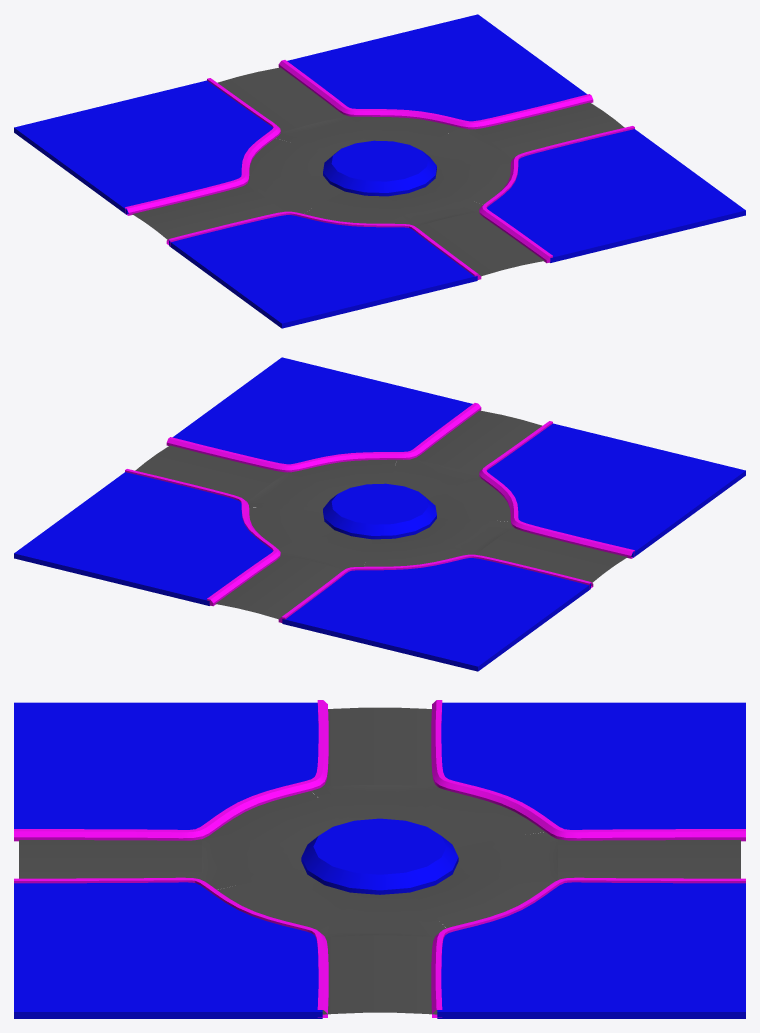
The model's file is SM_rondPoint.fbx.
The picture shows the model from 3 angles, top to bottom: view 1: azimuth 30°, elevation 25°; view 2: azimuth 150°, elevation 25°; view 3: azimuth 270°, elevation 25°; orthographic projection. The views are drawn at different scales.
Visible parts, largest first — view 1: SM_rondPoint; view 2: SM_rondPoint; view 3: SM_rondPoint.
Part boxes in pixels (x1=…): SM_rondPoint: x1=14, y1=14, x2=745, y2=328; SM_rondPoint: x1=14, y1=357, x2=745, y2=671; SM_rondPoint: x1=14, y1=700, x2=745, y2=1018.
Size of the model in its own units: 3204 by 96 by 3200.
